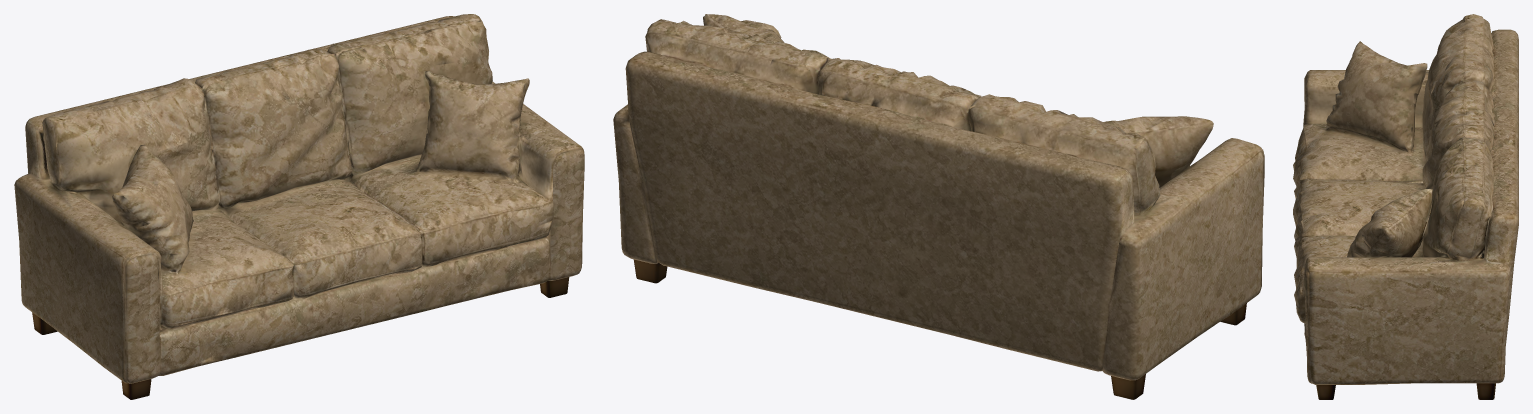
File: sofa.glb
3 views of the same model, side by side, from view 1: azimuth 30°, elevation 25°; view 2: azimuth 150°, elevation 25°; view 3: azimuth 270°, elevation 25° (orthographic). The views are drawn at different scales.
Parts seen in each view (by area): view 1: tripo_node_2a20f7d2-1c9d-4e65-b3bd-5d9ec9eb6af6; view 2: tripo_node_2a20f7d2-1c9d-4e65-b3bd-5d9ec9eb6af6; view 3: tripo_node_2a20f7d2-1c9d-4e65-b3bd-5d9ec9eb6af6.
Boxes of the visible parts, x1,y1,x2,y2 form: tripo_node_2a20f7d2-1c9d-4e65-b3bd-5d9ec9eb6af6: (14, 14, 584, 399); tripo_node_2a20f7d2-1c9d-4e65-b3bd-5d9ec9eb6af6: (613, 14, 1264, 399); tripo_node_2a20f7d2-1c9d-4e65-b3bd-5d9ec9eb6af6: (1293, 14, 1518, 399).
Bounding box in the file's own units: 0.9774 × 0.4495 × 0.4571.
1 material, 1 textured.
